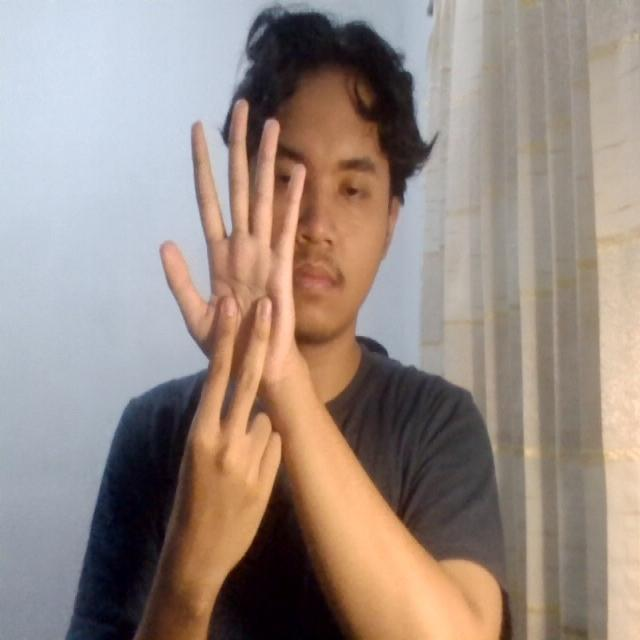IloveYou: (124, 79, 371, 508)
